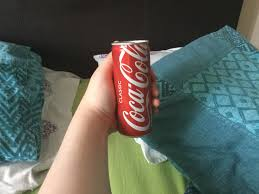coke: (111, 40, 154, 138)
